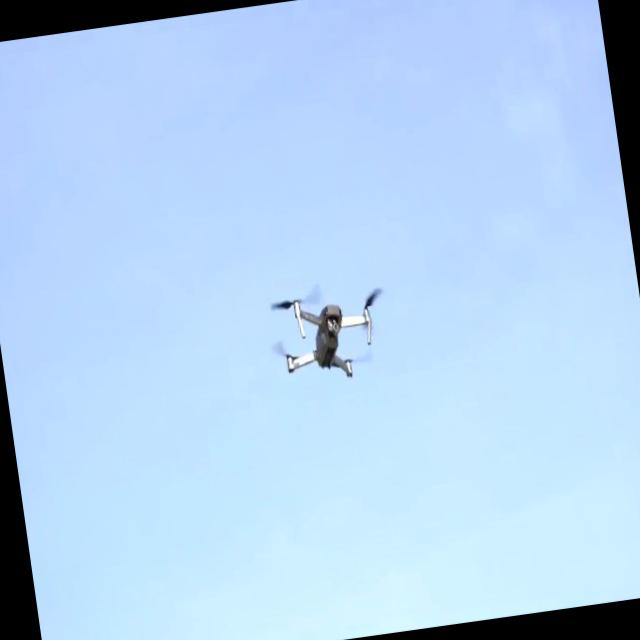drone: (266, 274, 388, 398)
